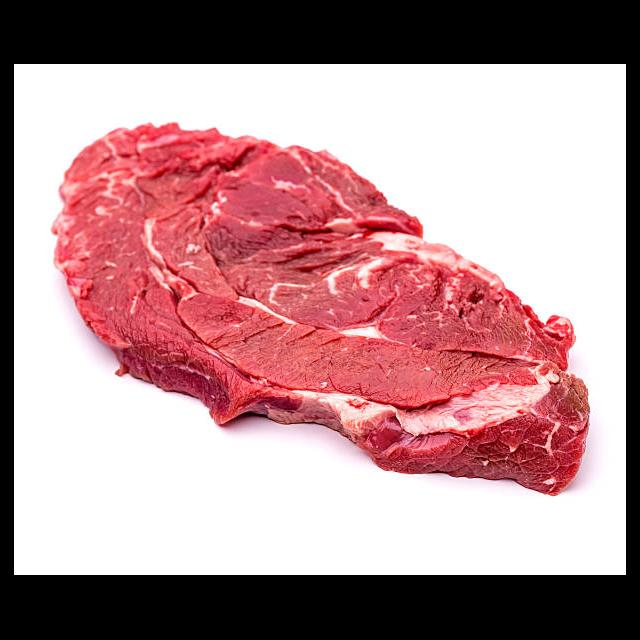beef: (50, 121, 591, 498)
